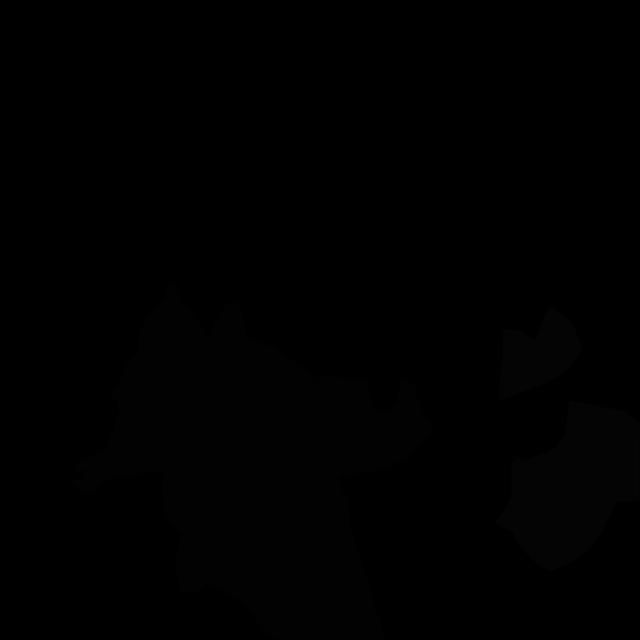cardboard: (162, 333, 386, 640), (70, 282, 247, 493), (315, 376, 433, 476)
soft_plastic: (494, 400, 640, 571), (498, 307, 582, 400)
